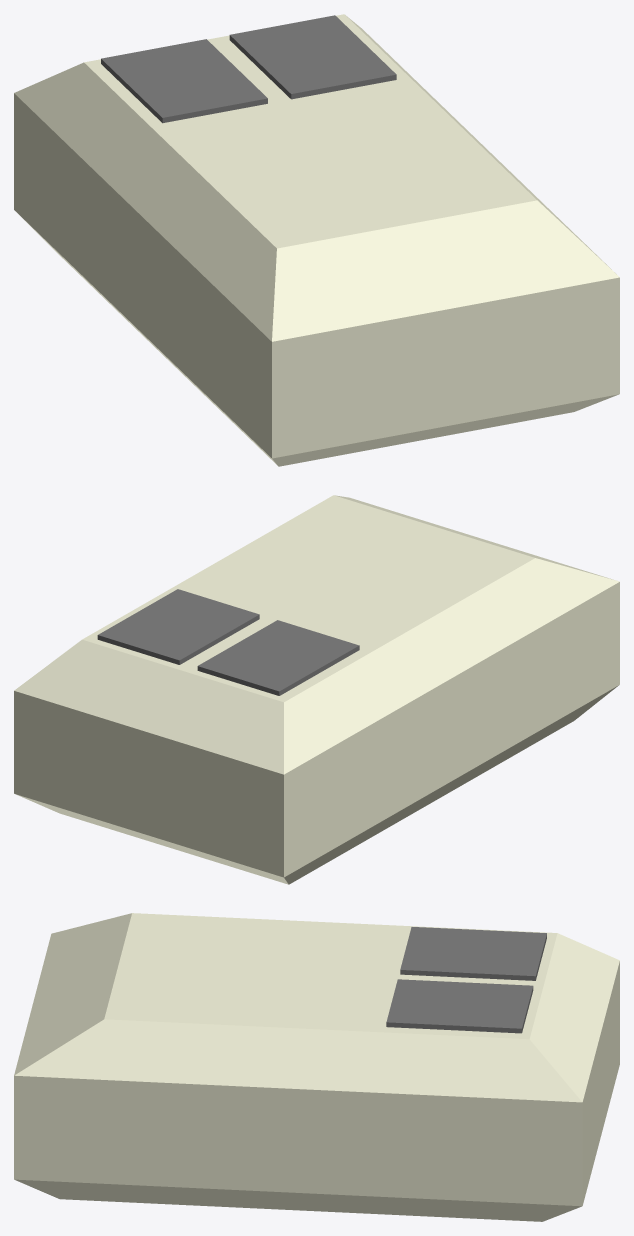
Rendered from Mouse.glb.
The picture shows the model from 3 angles, top to bottom: view 1: azimuth 30°, elevation 25°; view 2: azimuth 150°, elevation 25°; view 3: azimuth 270°, elevation 25°; orthographic projection. The views are drawn at different scales.
Visible parts, largest first — view 1: Mouse 2; view 2: Mouse 2; view 3: Mouse 2.
Part boxes in pixels (<box>): Mouse 2: <box>14,14,619,466</box>; Mouse 2: <box>14,495,619,884</box>; Mouse 2: <box>14,913,619,1221</box>.
Bounding box in the file's own units: 0.5918 × 0.2934 × 0.8981.
Materials: 1 (1 with a texture image).
